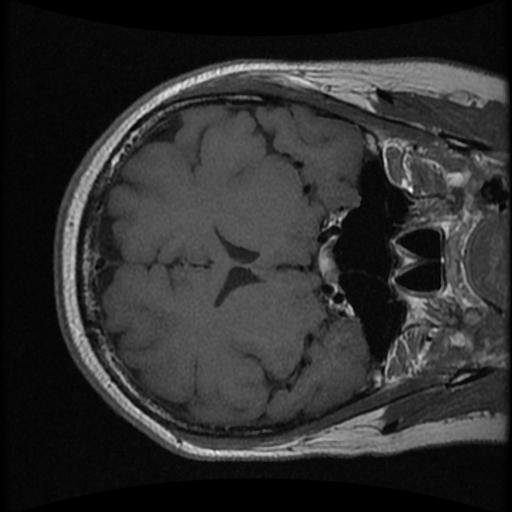pituitary tumour: (318, 237, 340, 288)
